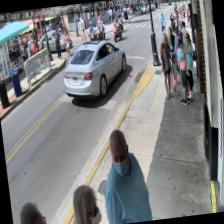person: (95, 125, 152, 224), (68, 182, 103, 224)
